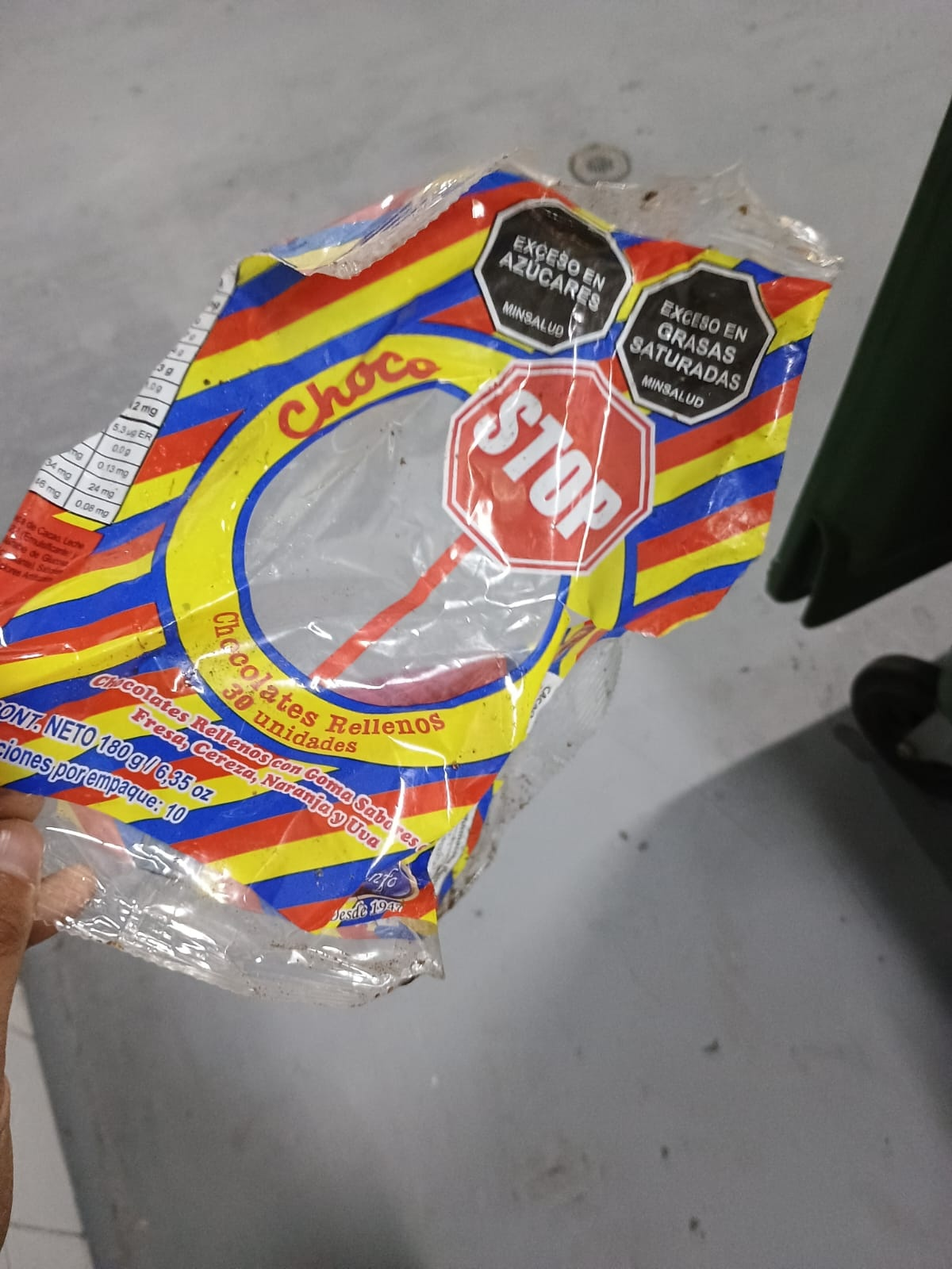Ordinario: (0, 149, 844, 1009)
